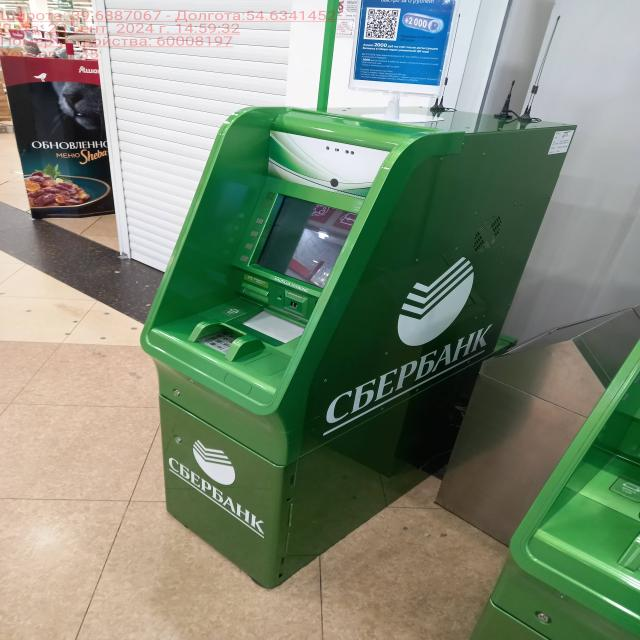bank: (139, 104, 579, 593), (473, 346, 640, 640)
